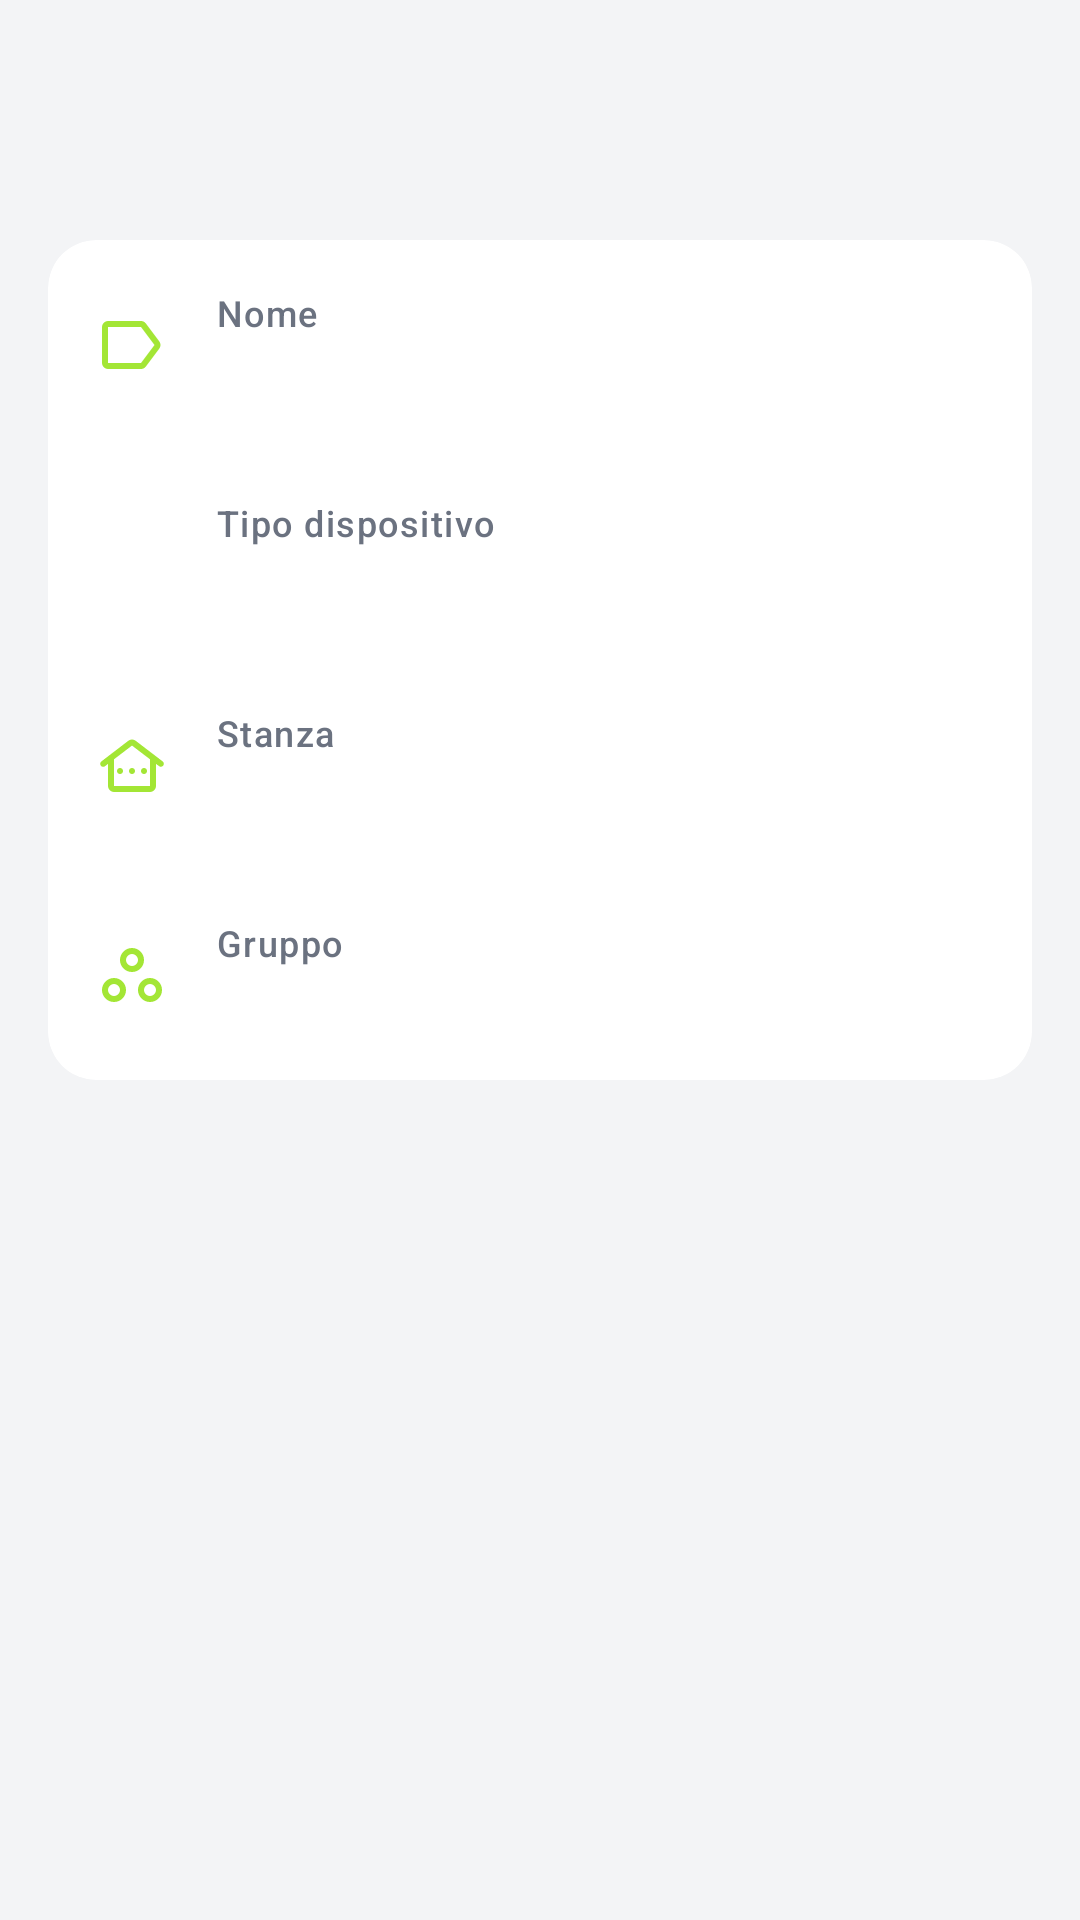

Screen size 1080 x 1920. Icon name, then its center in pixels as [x,y]:
group work: [132,975]
label: [131,345]
other houses: [132,765]
